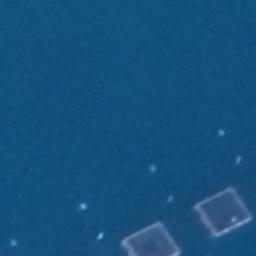square_cover: (191, 183, 252, 240), (115, 218, 189, 256)
